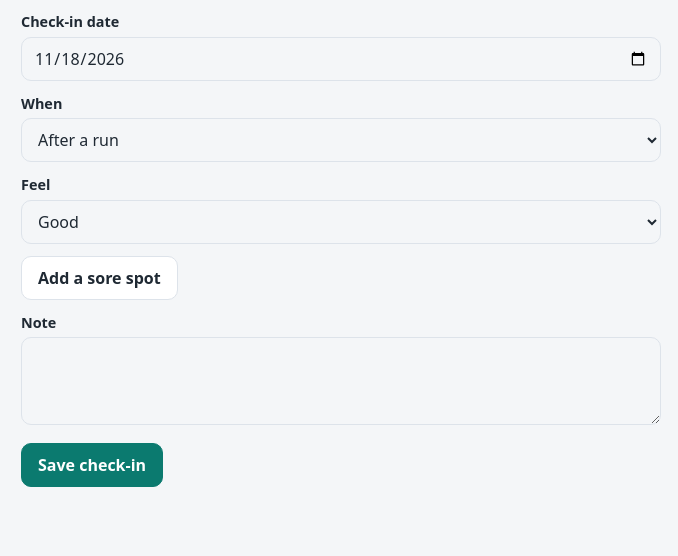
Scenario: CheckInForm: bad input and errors › rejects a date in the future
Type "2026-11-19" into the date field labelled "Check-in date" at (341, 59), box [21,37,661,81]
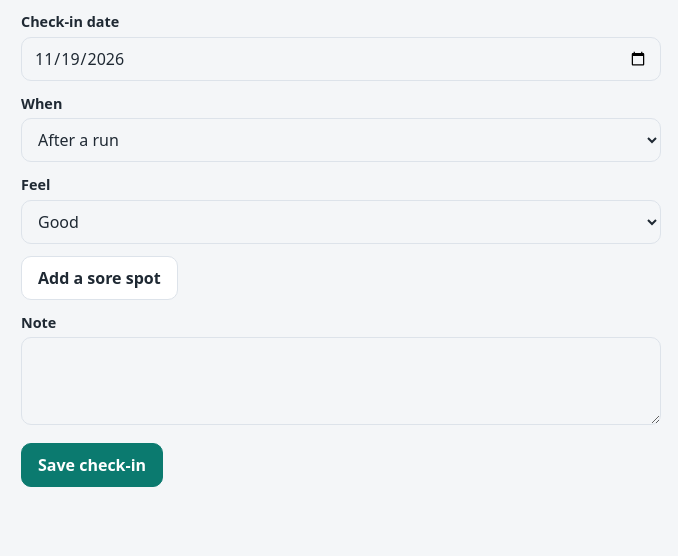
Click the button "Save check-in" at (92, 465), box [21,443,163,487]
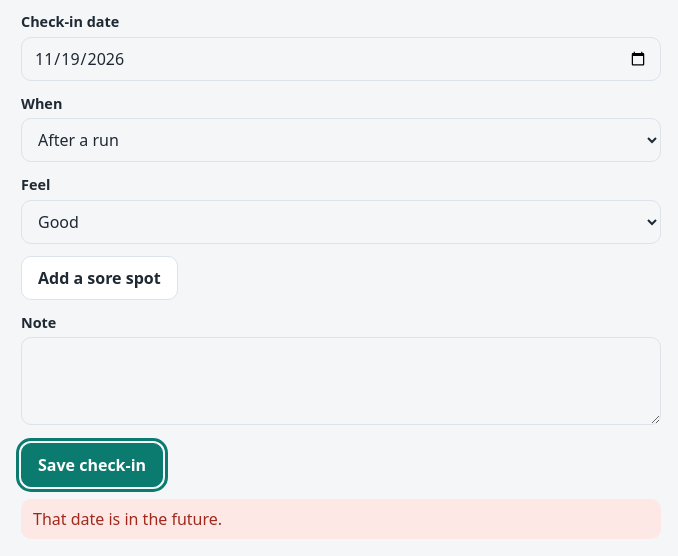
Expected: the text "That date is in the future." is shown, [21,499,661,539]
